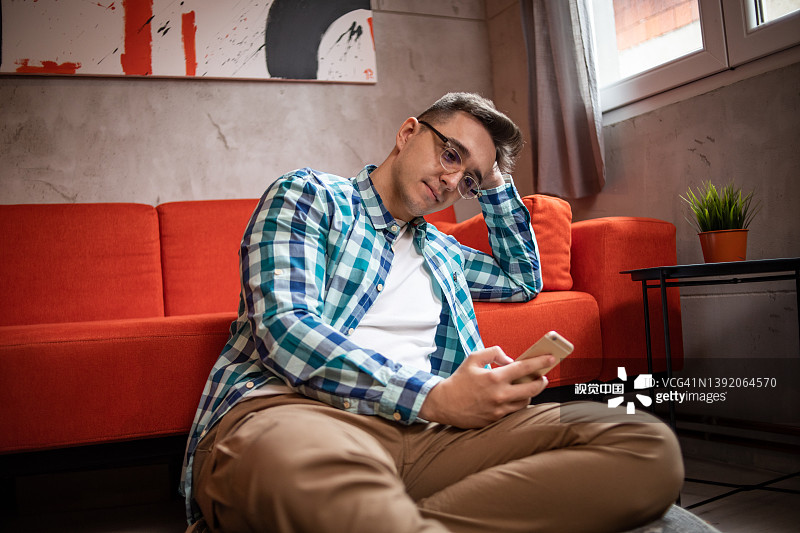reading: (435, 320, 570, 429)
